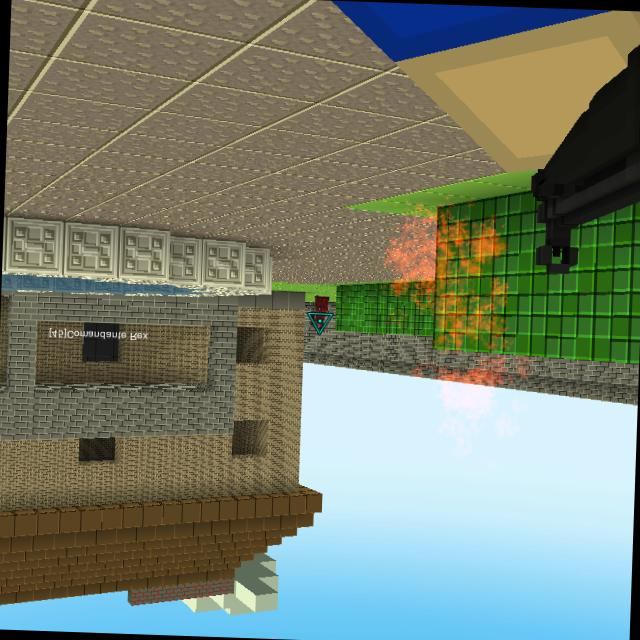enemy: (310, 294, 330, 333)
